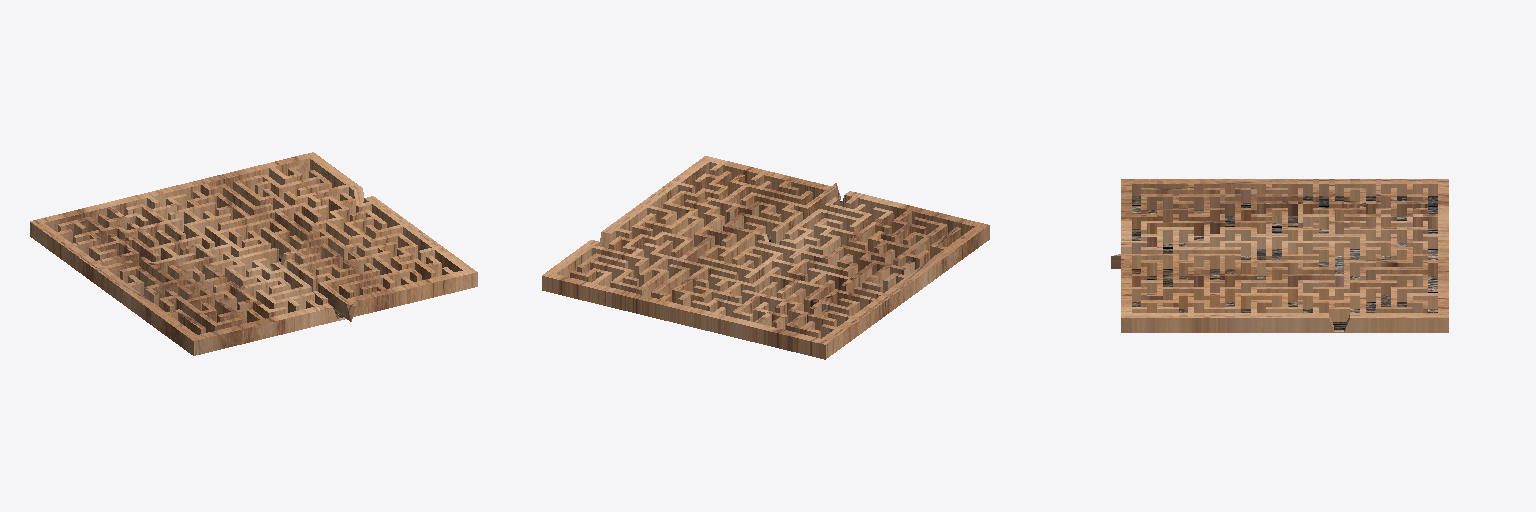
3 views of the same model, side by side, from view 1: azimuth 30°, elevation 25°; view 2: azimuth 150°, elevation 25°; view 3: azimuth 270°, elevation 25° (orthographic).
Parts seen in each view (by area): view 1: Plane; view 2: Plane; view 3: Plane.
Part boxes in pixels (left/top/right/bottom): Plane: left=30, top=152, right=477, bottom=355; Plane: left=542, top=156, right=989, bottom=359; Plane: left=1111, top=179, right=1448, bottom=332.
Size of the model in its own units: 10 by 0.5074 by 10.3.
1 materials, 1 textured.